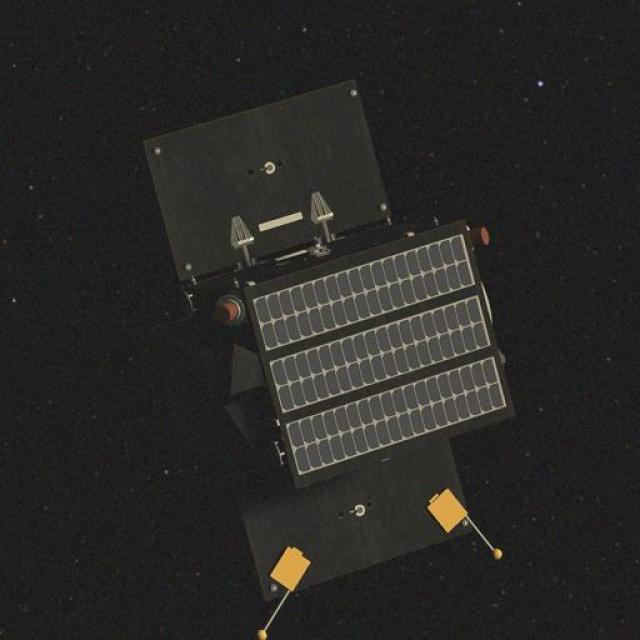proba_2: (118, 109, 493, 551)
